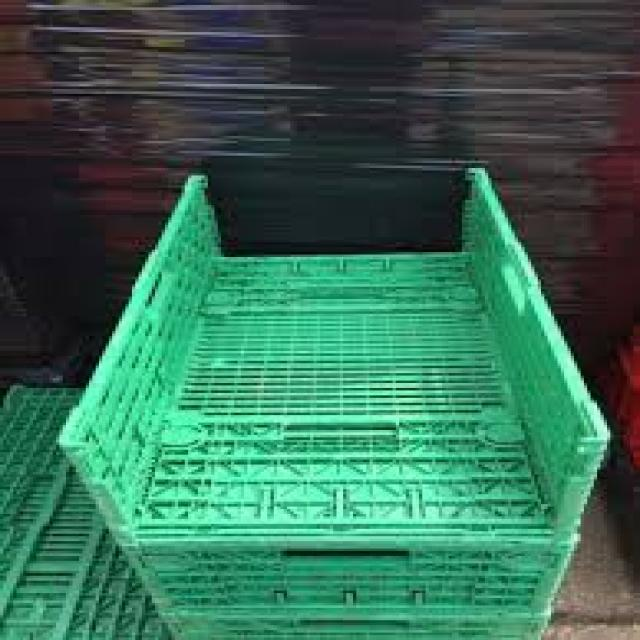basket: (59, 174, 610, 639), (0, 388, 172, 639)
